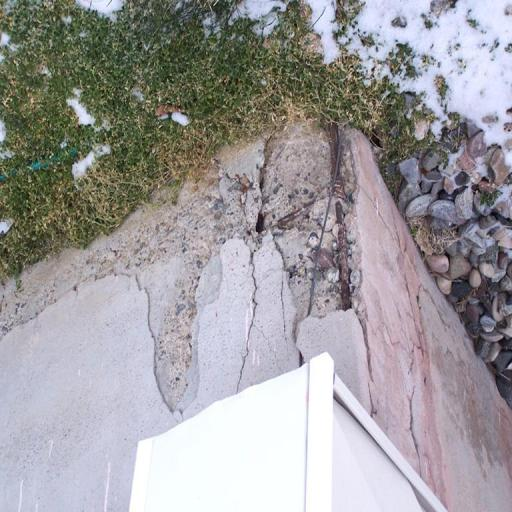spalling: (0, 117, 360, 413), (226, 250, 260, 385), (352, 317, 385, 424)
